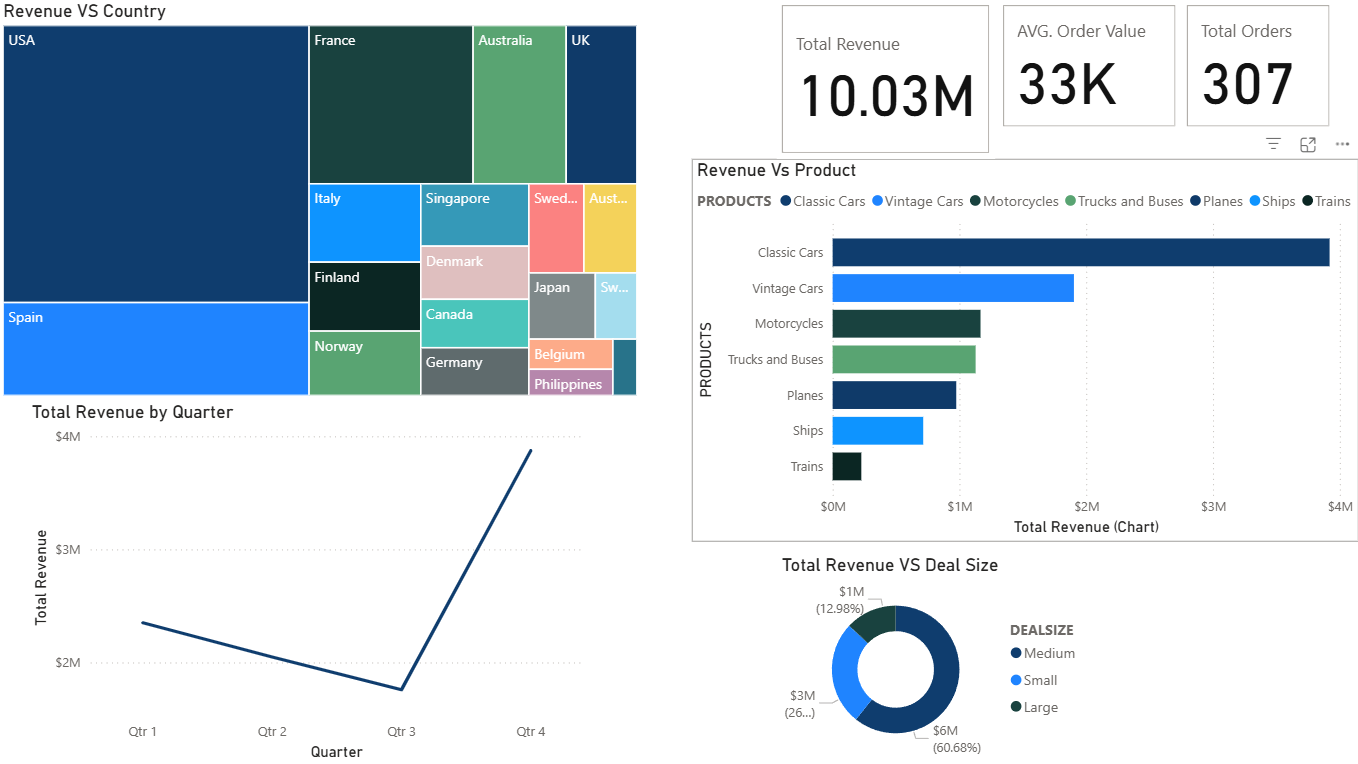

This screenshot's page, from the dashboard's own definition file:
{"tool":"powerbi","page":{"name":"Page 1","canvas":[1280,720],"ordinal":0},"visuals":[{"type":"lineChart","fields":{"Y":["Sales_Data_for_PowerBI.Total Revenue"],"Category":["Sales_Data_for_PowerBI.ORDERDATE.Variation.Date Hierarchy.Year","Sales_Data_for_PowerBI.ORDERDATE.Variation.Date Hierarchy.Quarter","Sales_Data_for_PowerBI.ORDERDATE.Variation.Date Hierarchy.Month","Sales_Data_for_PowerBI.ORDERDATE.Variation.Date Hierarchy.Day"]},"box":[27.4,377.4,528.3,343.1],"z":0},{"type":"cardVisual","fields":{"Data":["Sales_Data_for_PowerBI.AVG. Order Value"]},"box":[941.3,0,172.9,124.9],"z":1000},{"type":"cardVisual","fields":{"Data":["Sales_Data_for_PowerBI.Total Orders (Grand Total)"]},"box":[1114.2,0,144.1,124.9],"z":2000},{"type":"barChart","title":"Revenue  Vs Product","fields":{"Category":["Sales_Data_for_PowerBI.PRODUCTLINE"],"Y":["Sales_Data_for_PowerBI.Total Revenue"],"Series":["Sales_Data_for_PowerBI.PRODUCTLINE"]},"box":[653.2,149.6,627.1,359.5],"z":3000},{"type":"treemap","title":"Revenue VS Country","fields":{"Group":["Sales_Data_for_PowerBI.COUNTRY"],"Values":["Sales_Data_for_PowerBI.Total Revenue"]},"box":[0,0,606.5,377.4],"z":4000},{"type":"donutChart","title":"Total Revenue VS Deal Size","fields":{"Y":["Sales_Data_for_PowerBI.Total Revenue"],"Category":["Sales_Data_for_PowerBI.DEALSIZE"]},"box":[732.8,521.4,303.3,199],"z":5000},{"type":"cardVisual","fields":{"Data":["Sales_Data_for_PowerBI.Total Revenue (Card)"]},"box":[732.8,0,205.8,149.6],"z":6000}]}

Visuals, with their boxes in screenshot pixels (x1, y1, x2, y2), scaled from the page's 1280x720 canvas onto the 1358x764 screenshot:
lineChart - Sales_Data_for_PowerBI.Total Revenue x Sales_Data_for_PowerBI.ORDERDATE.Variation.Date Hierarchy.Year: 29,400,590,763
cardVisual - Sales_Data_for_PowerBI.AVG. Order Value: 999,0,1182,133
cardVisual - Sales_Data_for_PowerBI.Total Orders (Grand Total): 1182,0,1335,133
"Revenue  Vs Product" barChart: 693,159,1357,540
"Revenue VS Country" treemap: 0,0,643,400
"Total Revenue VS Deal Size" donutChart: 777,553,1099,763
cardVisual - Sales_Data_for_PowerBI.Total Revenue (Card): 777,0,996,159
